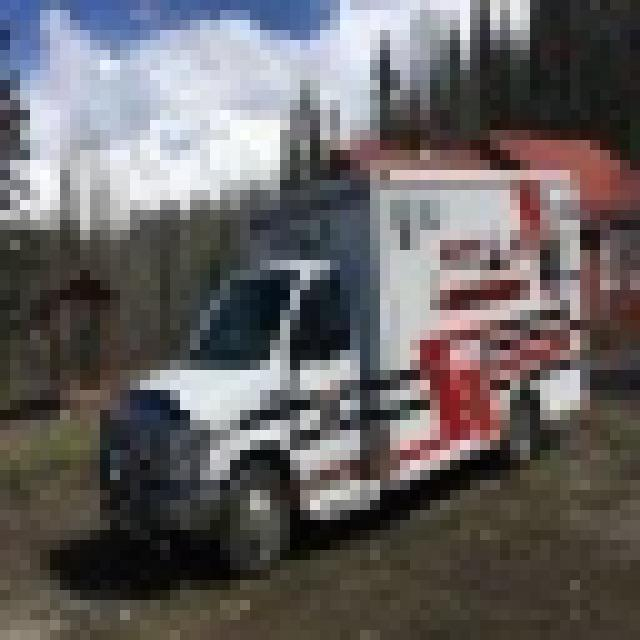Ambulance: (90, 140, 590, 570)
